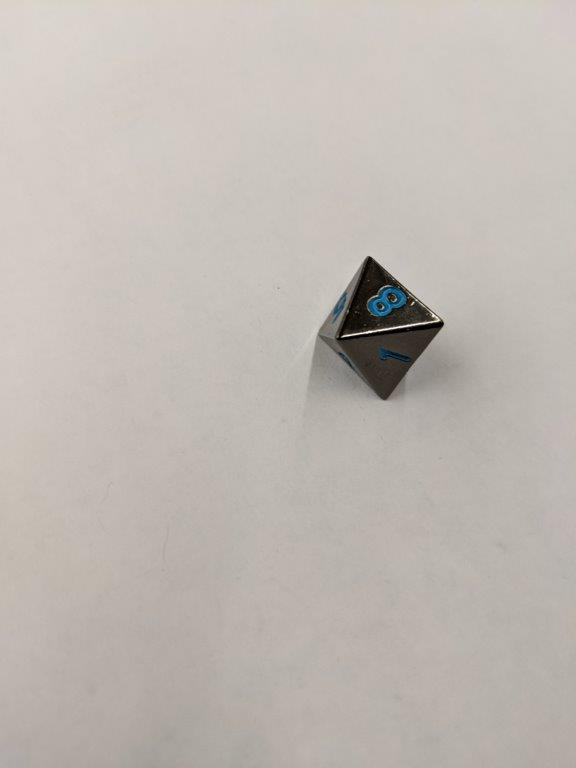d8-8: (312, 258, 445, 406)
